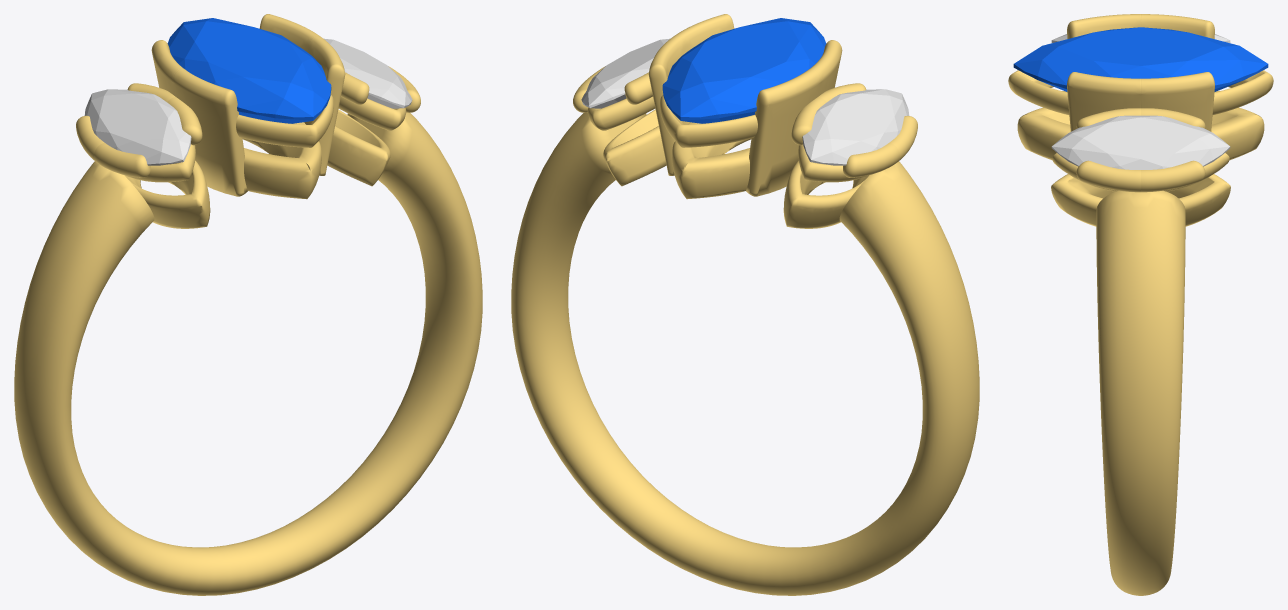
File: bluesapphire-marquise-yellowgold-halfmoonbezel-taperedband-3stone.glb
The picture shows the model from 3 angles, left to right: view 1: azimuth 30°, elevation 25°; view 2: azimuth 150°, elevation 25°; view 3: azimuth 270°, elevation 25°; orthographic projection.
Parts seen in each view (by area): view 1: metal.003, stone.003, side.007, side.006; view 2: metal.003, stone.003, side.007, side.006; view 3: metal.003, stone.003, side.006.
Boxes of the visible parts, left/top/right/bottom form: metal.003: left=14, top=14, right=482, bottom=595; stone.003: left=167, top=18, right=331, bottom=123; side.007: left=84, top=89, right=191, bottom=165; side.006: left=324, top=38, right=412, bottom=108; metal.003: left=511, top=14, right=979, bottom=595; stone.003: left=662, top=18, right=826, bottom=123; side.007: left=802, top=89, right=909, bottom=165; side.006: left=581, top=38, right=669, bottom=108; metal.003: left=1008, top=14, right=1273, bottom=595; stone.003: left=1013, top=27, right=1268, bottom=91; side.006: left=1051, top=115, right=1230, bottom=169.
Bounding box in the file's own units: 20.1 × 22.73 × 10.4.
